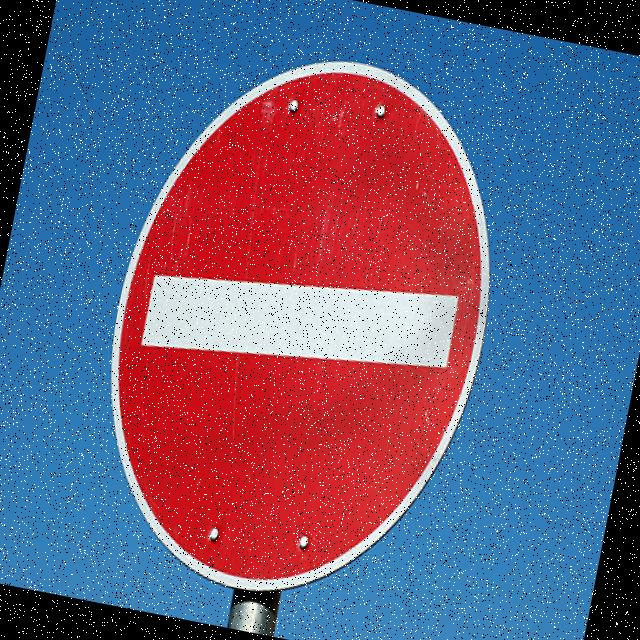do_not_enter: (62, 16, 536, 629)
